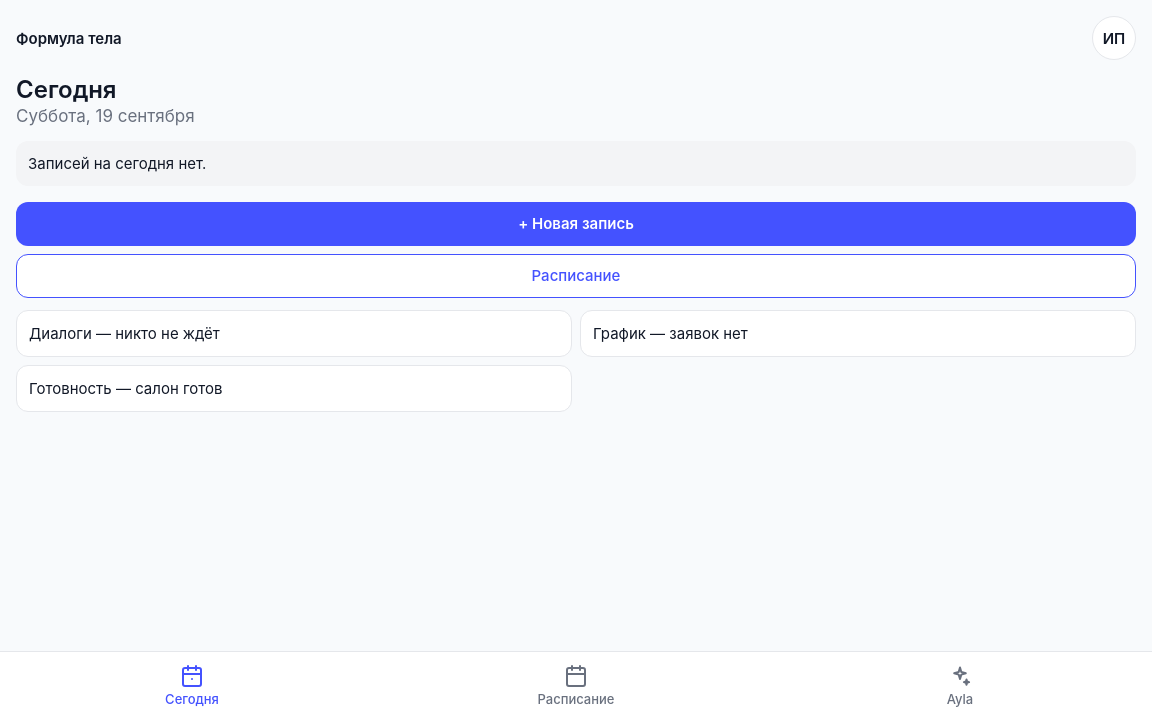
Test: аватар → лист (DRF-2115) › пункт team ведёт на /admin/team
This screenshot has width=1152, height=720.
Click the button with aria-label "Меню профиля" at (1114, 38), box 1092,16 -> 1136,60
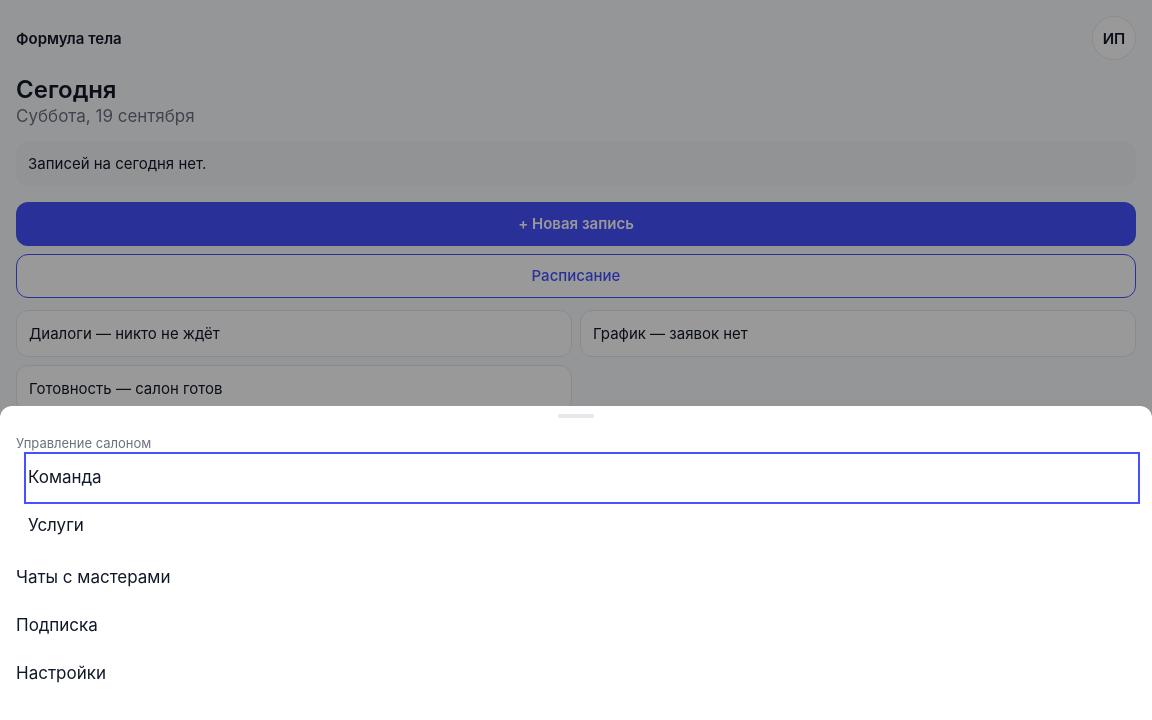
Click the button "Команда" at (65, 477), box 28,456 -> 1136,500
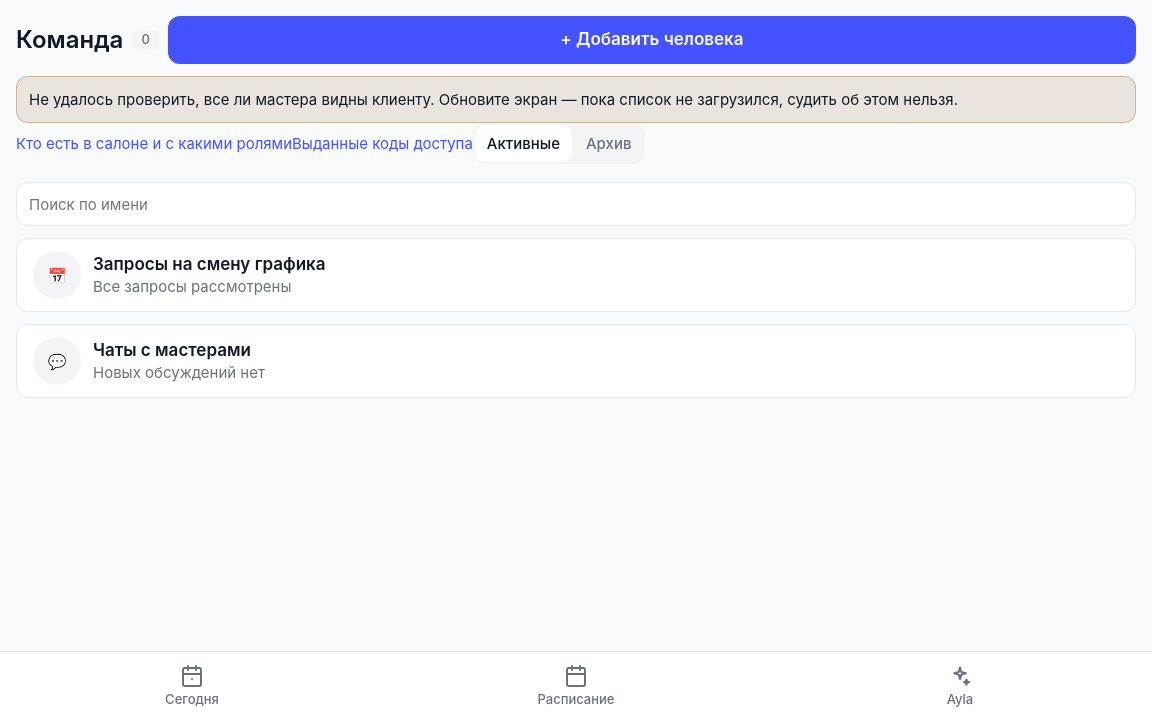
Check: the heading "Команда 0" is shown, box 16,26 -> 160,54
